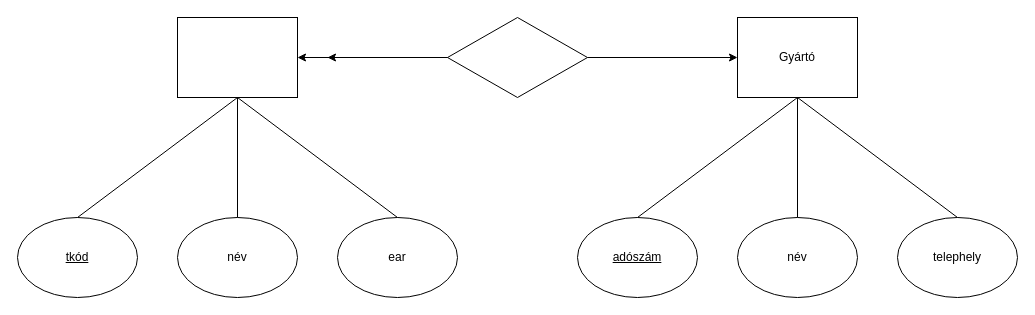
The diagram is 1035 pixels wide and 315 high, and some of its shapes have lost their labels. The centre of each missing label's shape, as x and y in pixels:
"Termék" belongs at pixel 237 57.
"TGY" belongs at pixel 517 57.
